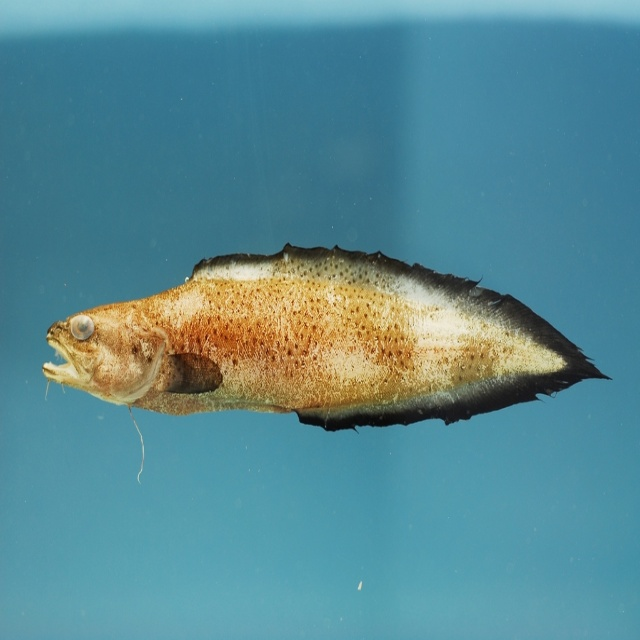Fish: (40, 247, 610, 427)
